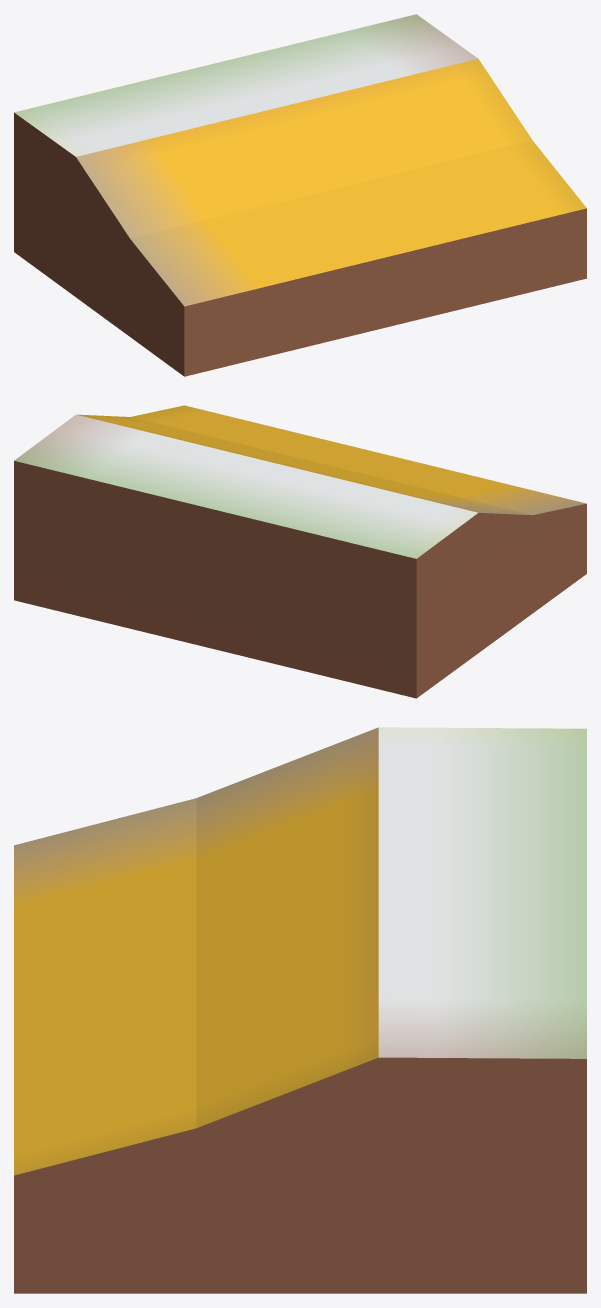
The model's file is Shore.Horizontal.A.Snow.glb.
3 renders of one model, top to bottom at view 1: azimuth 30°, elevation 25°; view 2: azimuth 150°, elevation 25°; view 3: azimuth 270°, elevation 25°, orthographic. The views are drawn at different scales.
Parts seen in each view (by area): view 1: Shore.Horizontal.A.Snow; view 2: Shore.Horizontal.A.Snow; view 3: Shore.Horizontal.A.Snow.
Part boxes in pixels (x1,y1,x2,y2): Shore.Horizontal.A.Snow: (14,14,586,376); Shore.Horizontal.A.Snow: (14,405,586,698); Shore.Horizontal.A.Snow: (14,727,586,1293).
Bounding box in the file's own units: 3 × 1 × 2.2.
Materials: 1 (1 with a texture image).
